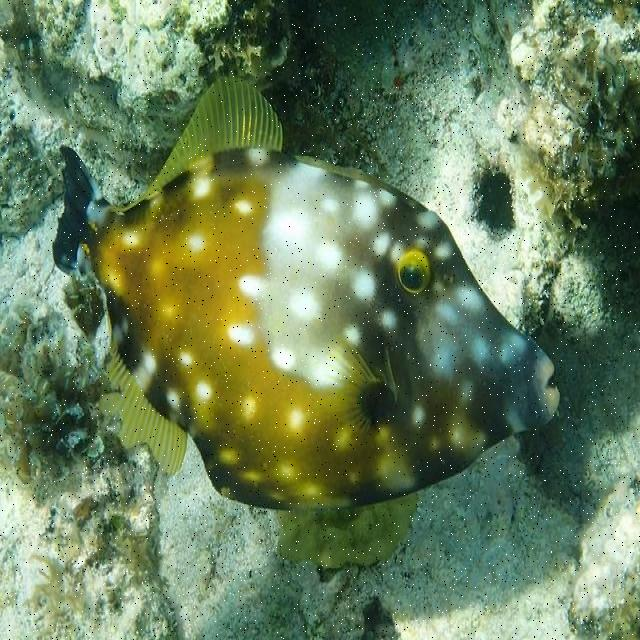fish: (52, 77, 560, 570)
